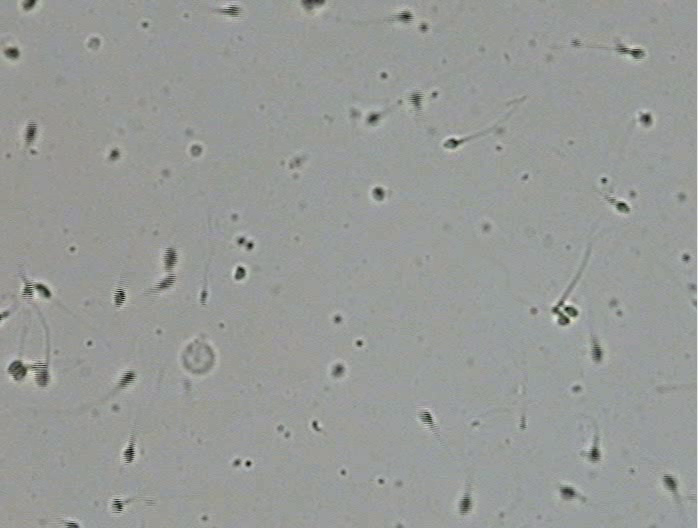Impurity: (182, 340, 215, 374), (87, 37, 100, 49)
S: (7, 360, 27, 382), (32, 361, 49, 386), (162, 246, 178, 272), (156, 273, 178, 290), (117, 369, 135, 388), (24, 120, 37, 145), (661, 473, 678, 492), (33, 282, 51, 299), (589, 342, 603, 363), (628, 45, 647, 60), (21, 279, 34, 300), (113, 287, 126, 308), (418, 409, 434, 425), (586, 446, 602, 462), (222, 4, 241, 17), (459, 495, 472, 514), (301, 1, 325, 11), (639, 112, 654, 128), (396, 10, 413, 24), (558, 486, 576, 499), (123, 445, 135, 464), (408, 91, 422, 107), (371, 186, 385, 201), (615, 200, 631, 213), (331, 363, 345, 377), (234, 265, 246, 281), (110, 499, 123, 513), (4, 48, 20, 59), (443, 138, 459, 149), (563, 306, 579, 317), (557, 313, 570, 326), (108, 148, 120, 161), (191, 144, 203, 157), (367, 113, 380, 125), (21, 1, 37, 10), (64, 520, 80, 528)
